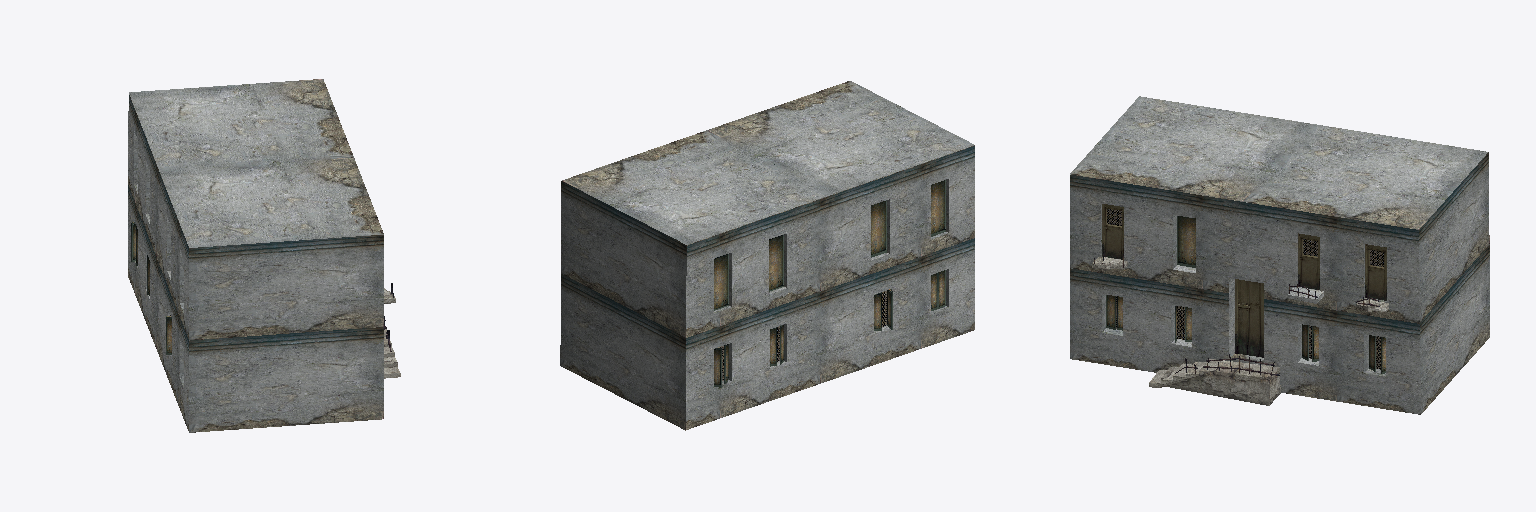
The picture shows the model from 3 angles: view 1: azimuth 30°, elevation 25°; view 2: azimuth 150°, elevation 25°; view 3: azimuth 270°, elevation 25°; orthographic projection.
Bounding box in the file's own units: 253 × 164 × 336.
6 materials, 6 textured.